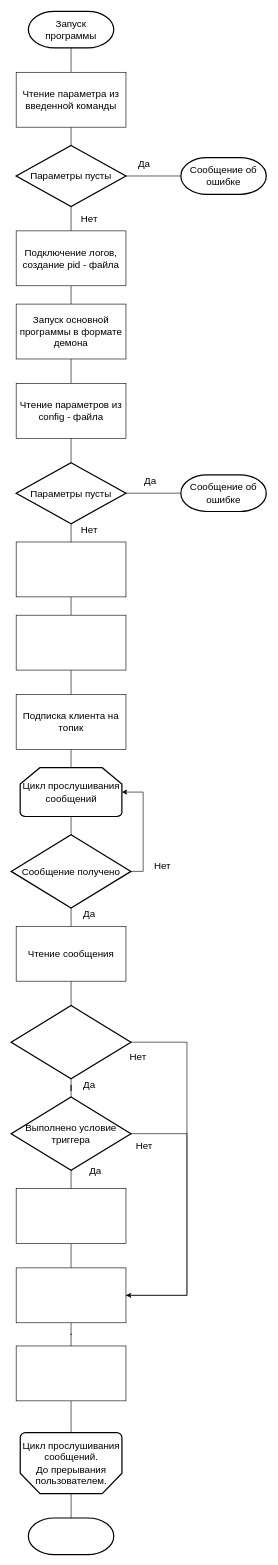
This 278x1565 diagram has some shape labels left out. Each missing label, with the box of its shape:
Выход из программы: (27, 1517, 114, 1555)
Генерация сигнала и запись его в сообщение: (16, 1188, 126, 1243)
Есть триггеры: (10, 1005, 131, 1079)
Запись сообщения в файл: (16, 1345, 126, 1401)
Отправка сообщения на топик для отправки: (16, 1267, 126, 1323)
Подключение клиента к брокеру: (16, 615, 126, 670)
Создание клиента MQTT: (16, 541, 126, 597)
